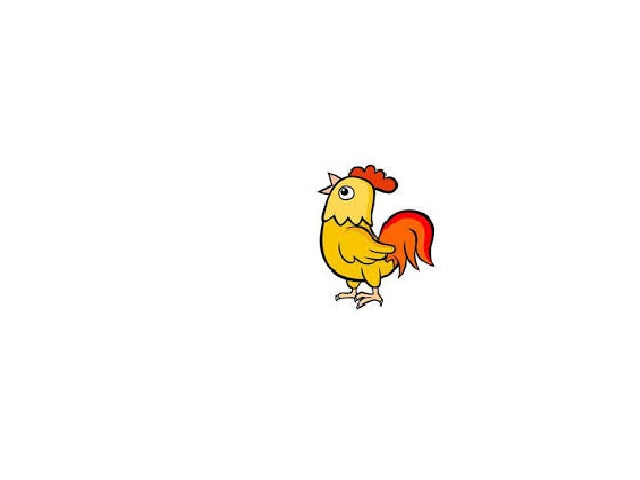crown: (357, 163, 406, 198)
eyes: (340, 184, 361, 203)
feet: (332, 289, 389, 312)
tail: (384, 208, 437, 281)
